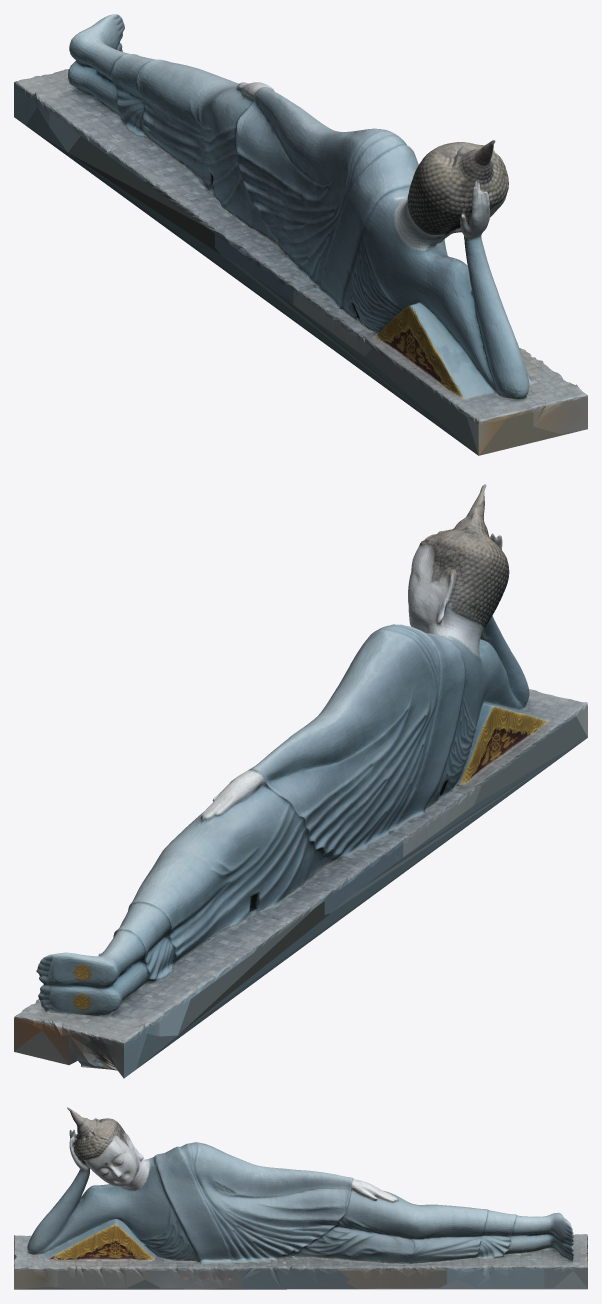
Rendered from tuong_phat_nam_-_chua_som_rong_soc_trang.glb.
The picture shows the model from 3 angles, top to bottom: view 1: azimuth 30°, elevation 25°; view 2: azimuth 150°, elevation 25°; view 3: azimuth 270°, elevation 25°; orthographic projection. The views are drawn at different scales.
Parts seen in each view (by area): view 1: tuong_PN_0; view 2: tuong_PN_0; view 3: tuong_PN_0.
Boxes of the visible parts, x1,y1,x2,y2 form: tuong_PN_0: (14,14,587,455); tuong_PN_0: (14,484,587,1078); tuong_PN_0: (14,1107,587,1289).
Size of the model in its own units: 4.26 by 9.92 by 30.89.
Materials: 1 (1 with a texture image).
